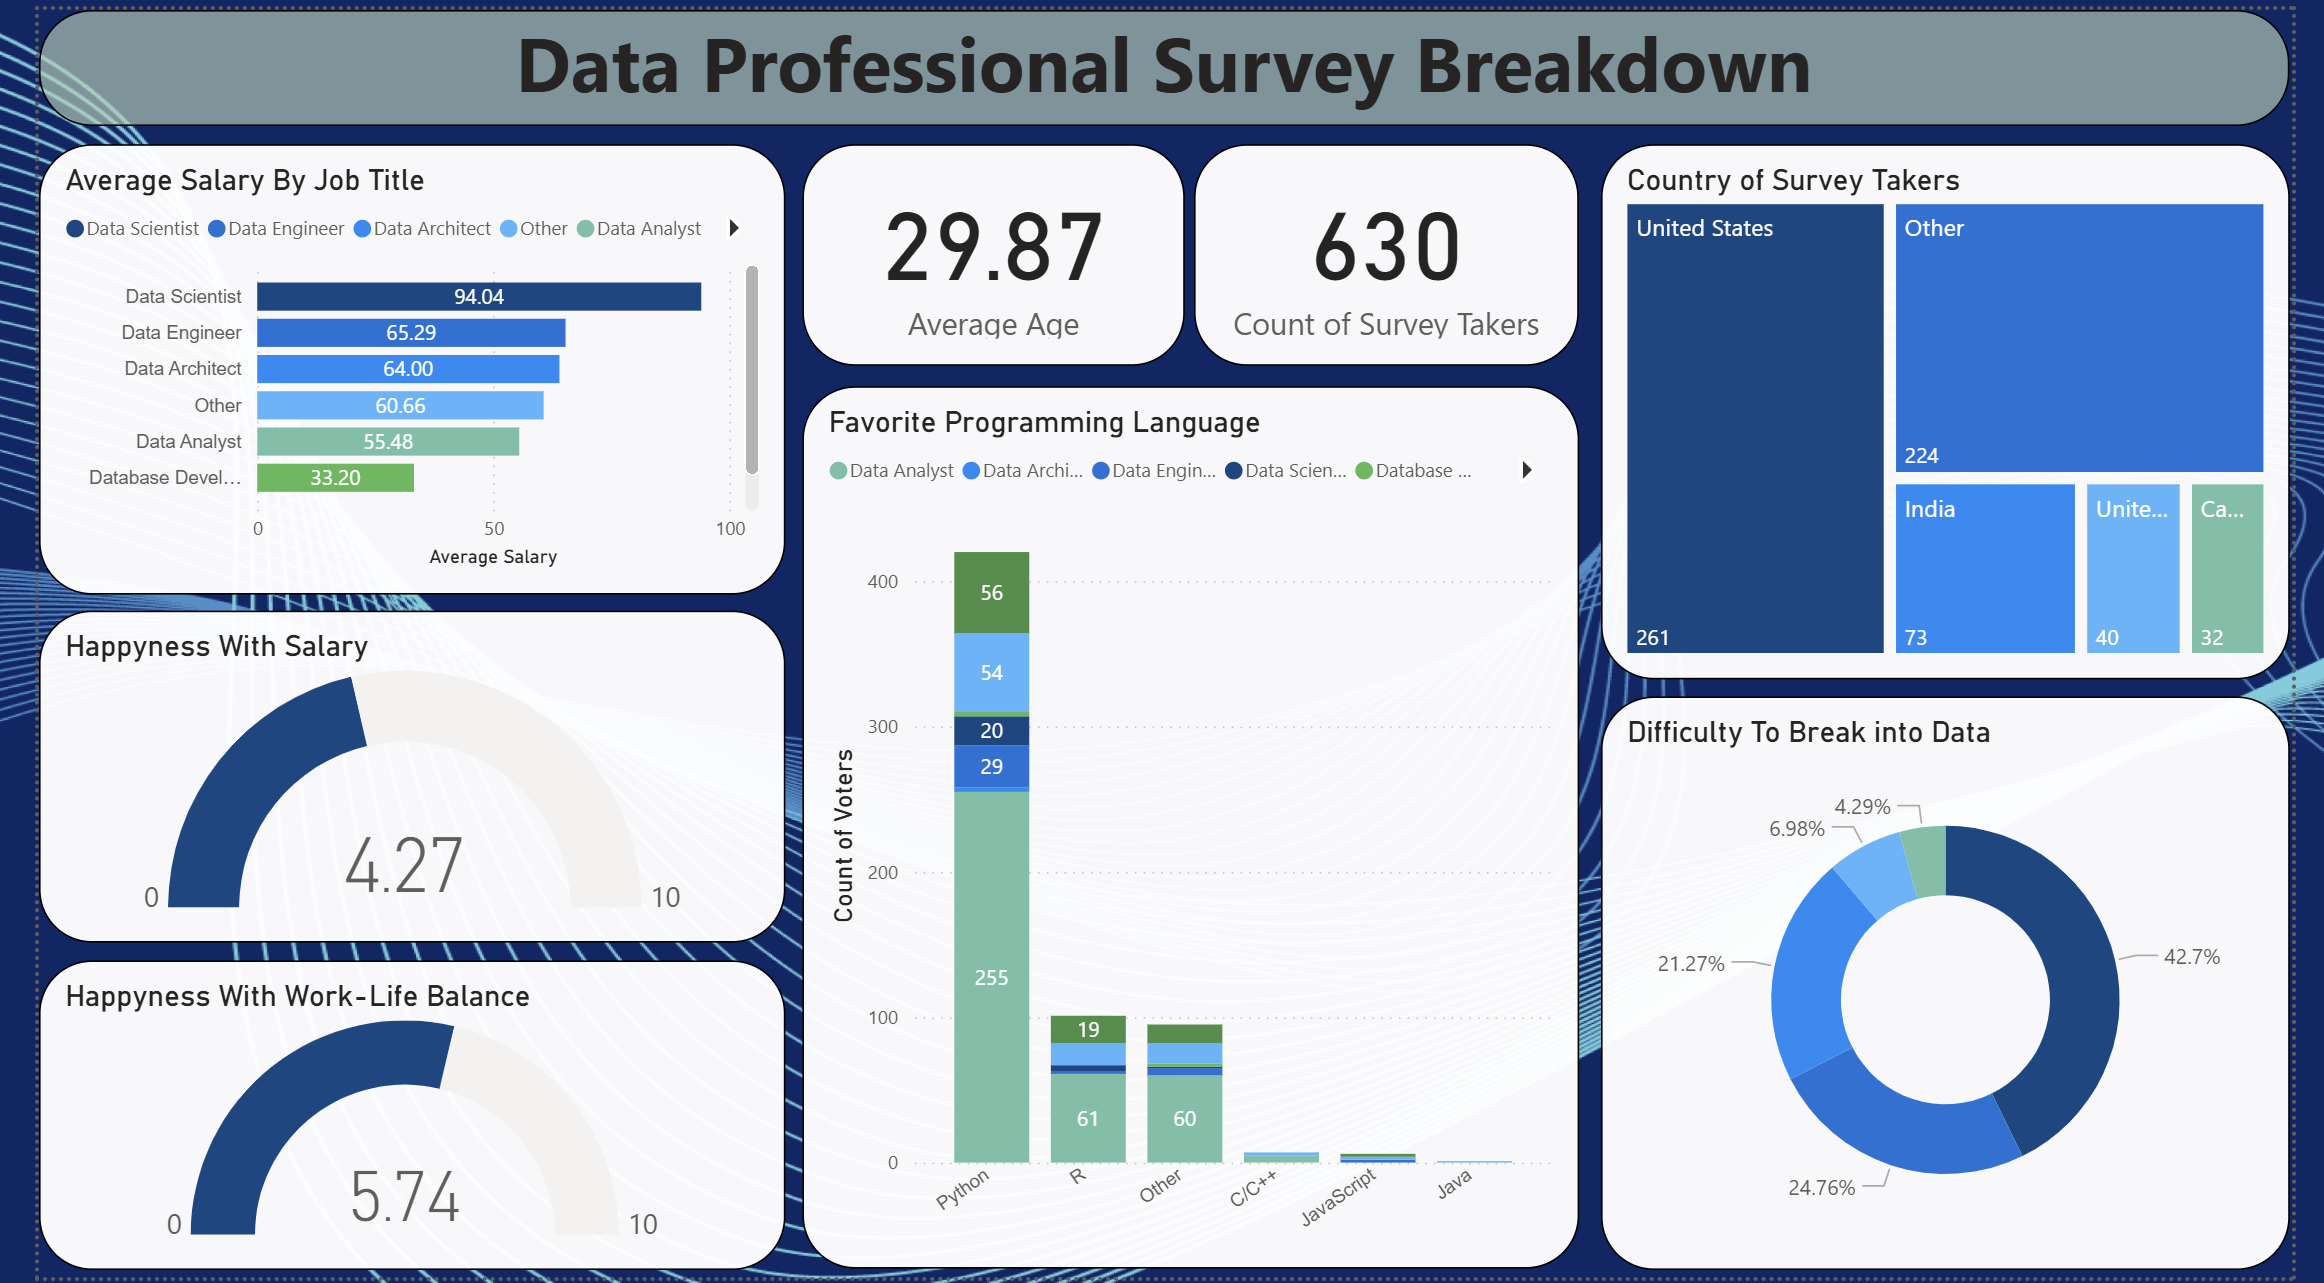

This screenshot's page, from the dashboard's own definition file:
{"tool":"powerbi","page":{"name":"Population Survey Dashboard","canvas":[1280,720],"ordinal":0},"visuals":[{"type":"textbox","box":[0,0,1278.6,65.7],"z":0},{"type":"card","fields":{"Values":["CountNonNull(Data Professional Survey.Unique ID)"]},"box":[655.7,75.7,218.6,125.7],"z":1000},{"type":"card","fields":{"Values":["Avg(Data Professional Survey.Q10 - Current Age)"]},"box":[434.3,75.7,217.1,125.7],"z":2000},{"type":"barChart","title":"Average Salary By Job Title","fields":{"Category":["Data Professional Survey.Q1 - Which Title Best Fits your Current Role?.1"],"Y":["Avg(Data Professional Survey.Average Salary)"],"Series":["Data Professional Survey.Q1 - Which Title Best Fits your Current Role?.1"]},"box":[0,75.7,424.3,255.7],"z":3000},{"type":"columnChart","title":"Favorite Programming Language","fields":{"Category":["Data Professional Survey.Q5 - Favorite Programming Language.1"],"Y":["CountNonNull(Data Professional Survey.Unique ID)"],"Series":["Data Professional Survey.Q1 - Which Title Best Fits your Current Role?.1"]},"box":[434.3,214.3,441.4,501.4],"z":4000},{"type":"treemap","title":"Country of Survey Takers","fields":{"Group":["Data Professional Survey.Q11 - Which Country do you live in?.1"],"Values":["CountNonNull(Data Professional Survey.Q11 - Which Country do you live in?.1)"]},"box":[887.1,75.7,391.4,304.3],"z":5000},{"type":"gauge","title":"Happyness With Work-Life Balance","fields":{"Y":["Avg(Data Professional Survey.Q6 - How Happy are you in your Current Position with the following? (Work/Life Balance))"],"MinValue":["Min(Data Professional Survey.Q6 - How Happy are you in your Current Position with the following? (Work/Life Balance))1"],"MaxValue":["Max(Data Professional Survey.Q6 - How Happy are you in your Current Position with the following? (Work/Life Balance))2"]},"box":[0,540,424.3,175.7],"z":6000},{"type":"gauge","title":"Happyness With Salary","fields":{"Y":["Avg(Data Professional Survey.Q6 - How Happy are you in your Current Position with the following? (Salary))"],"MinValue":["Min(Data Professional Survey.Q6 - How Happy are you in your Current Position with the following? (Salary))"],"MaxValue":["Max(Data Professional Survey.Q6 - How Happy are you in your Current Position with the following? (Salary))"]},"box":[0,341.4,424.3,188.6],"z":7000},{"type":"donutChart","title":"Difficulty To Break into Data","fields":{"Category":["Data Professional Survey.Q7 - How difficult was it for you to break into Data?"],"Y":["CountNonNull(Data Professional Survey.Q7 - How difficult was it for you to break into Data?)"]},"box":[887.1,390,391.4,325.7],"z":8000}]}

Visuals, with their boxes in screenshot pixels (x1, y1, x2, y2), scaled from the page's 1280x720 canvas onto the 2324x1283 screenshot:
textbox: left=0, top=0, right=2321, bottom=117
card - CountNonNull(Data Professional Survey.Unique ID): left=1191, top=135, right=1587, bottom=359
card - Avg(Data Professional Survey.Q10 - Current Age): left=789, top=135, right=1183, bottom=359
"Average Salary By Job Title" barChart: left=0, top=135, right=770, bottom=591
"Favorite Programming Language" columnChart: left=789, top=382, right=1590, bottom=1275
"Country of Survey Takers" treemap: left=1611, top=135, right=2321, bottom=677
"Happyness With Work-Life Balance" gauge: left=0, top=962, right=770, bottom=1275
"Happyness With Salary" gauge: left=0, top=608, right=770, bottom=944
"Difficulty To Break into Data" donutChart: left=1611, top=695, right=2321, bottom=1275
